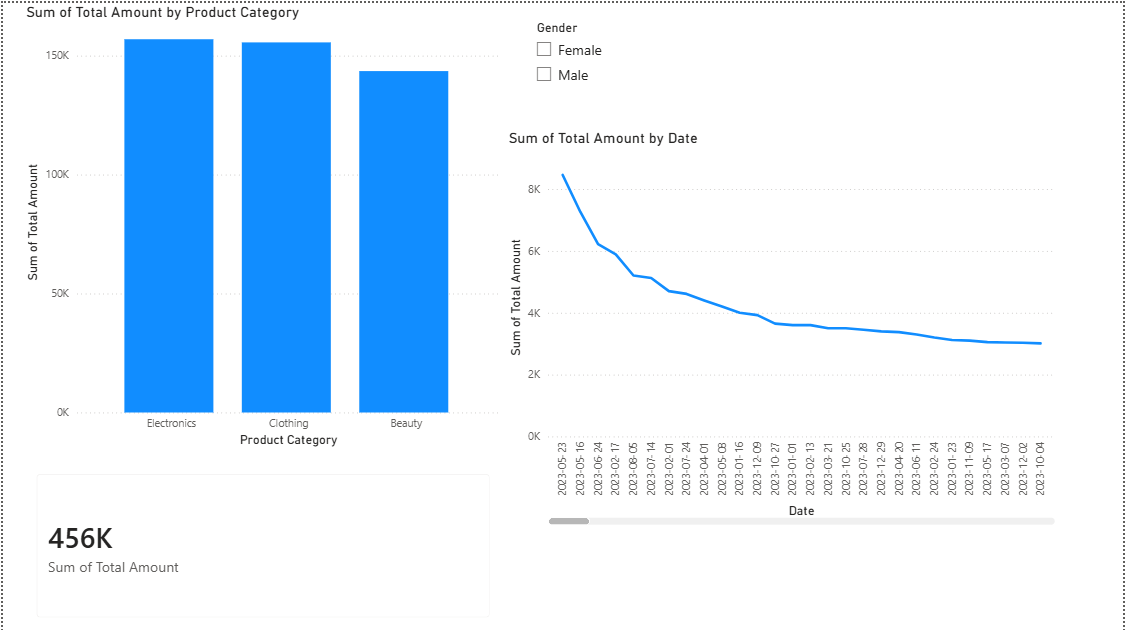

The page's visual inventory and layout, read from the dashboard file:
{"tool":"powerbi","page":{"name":"Page 1","canvas":[1280,720],"ordinal":0},"visuals":[{"type":"clusteredColumnChart","fields":{"Category":["retail_portfolio retail_sales_dataset.Product Category"],"Y":["Sum(retail_portfolio retail_sales_dataset.Total Amount)"]},"box":[22,0,552,512],"z":0},{"type":"slicer","fields":{"Values":["retail_portfolio retail_sales_dataset.Gender"]},"box":[597.1,14.3,117.1,88.6],"z":1000},{"type":"cardVisual","fields":{"Data":["Sum(retail_portfolio retail_sales_dataset.Total Amount)"]},"box":[22,522,552,198],"z":2000},{"type":"lineChart","fields":{"Category":["retail_portfolio retail_sales_dataset.Date"],"Y":["Sum(retail_portfolio retail_sales_dataset.Total Amount)"]},"box":[572.9,144.3,634.3,457.1],"z":2001}]}

Visuals, with their boxes in screenshot pixels (x1, y1, x2, y2), scaled from the page's 1280x720 canvas onto the 1126x632 screenshot:
clusteredColumnChart - retail_portfolio retail_sales_dataset.Product Category x Sum(retail_portfolio retail_sales_dataset.Total Amount): [left=19, top=0, right=505, bottom=449]
slicer - retail_portfolio retail_sales_dataset.Gender: [left=525, top=13, right=628, bottom=90]
cardVisual - Sum(retail_portfolio retail_sales_dataset.Total Amount): [left=19, top=458, right=505, bottom=631]
lineChart - retail_portfolio retail_sales_dataset.Date x Sum(retail_portfolio retail_sales_dataset.Total Amount): [left=504, top=127, right=1062, bottom=528]
